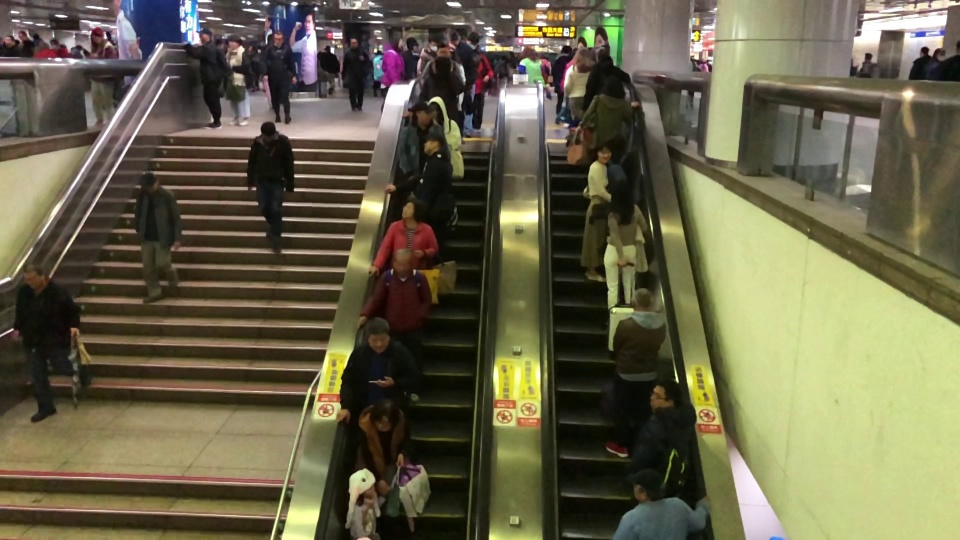person_head: (647, 376, 685, 417), (628, 467, 663, 504), (367, 398, 402, 434), (347, 466, 380, 502), (362, 314, 392, 353), (411, 99, 437, 132), (610, 180, 635, 213), (628, 286, 656, 313), (426, 97, 448, 128), (391, 247, 414, 275), (600, 74, 625, 99), (22, 262, 46, 288), (421, 132, 445, 156), (401, 197, 426, 220), (432, 55, 456, 78), (138, 172, 161, 194), (593, 138, 612, 163), (574, 47, 590, 71), (261, 121, 278, 143), (225, 32, 243, 51), (90, 24, 106, 45), (404, 35, 422, 53), (436, 41, 453, 60), (595, 43, 611, 63), (520, 44, 538, 61), (197, 27, 212, 45), (389, 34, 403, 52), (466, 31, 480, 49), (272, 29, 286, 46), (932, 46, 947, 61), (558, 44, 573, 55), (919, 44, 930, 58), (348, 37, 359, 50), (863, 51, 874, 61)
person_vbox: (10, 263, 80, 423), (603, 287, 666, 457), (333, 315, 417, 426), (380, 131, 454, 251), (628, 378, 697, 497), (608, 467, 711, 540), (354, 249, 432, 339), (602, 182, 649, 326), (246, 120, 297, 252), (136, 171, 184, 303), (577, 76, 640, 176), (354, 398, 411, 497), (368, 197, 439, 274), (182, 27, 234, 130), (426, 94, 465, 228), (579, 141, 613, 283), (397, 102, 452, 176), (262, 31, 298, 125), (86, 25, 118, 125), (420, 57, 464, 126), (583, 47, 630, 111), (370, 33, 406, 113), (223, 33, 253, 127), (342, 467, 382, 536), (340, 34, 373, 111), (563, 47, 596, 122), (417, 42, 463, 89), (463, 30, 481, 138), (552, 44, 574, 118), (519, 46, 549, 92), (922, 43, 948, 79), (401, 36, 421, 79), (908, 44, 931, 79), (857, 51, 878, 77)
